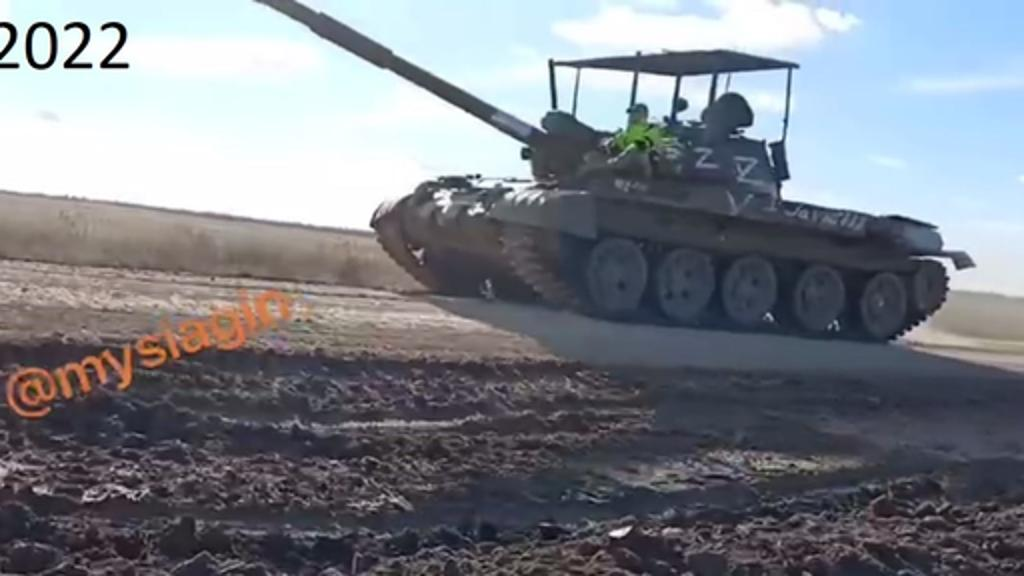TANK: (260, 2, 974, 348)
